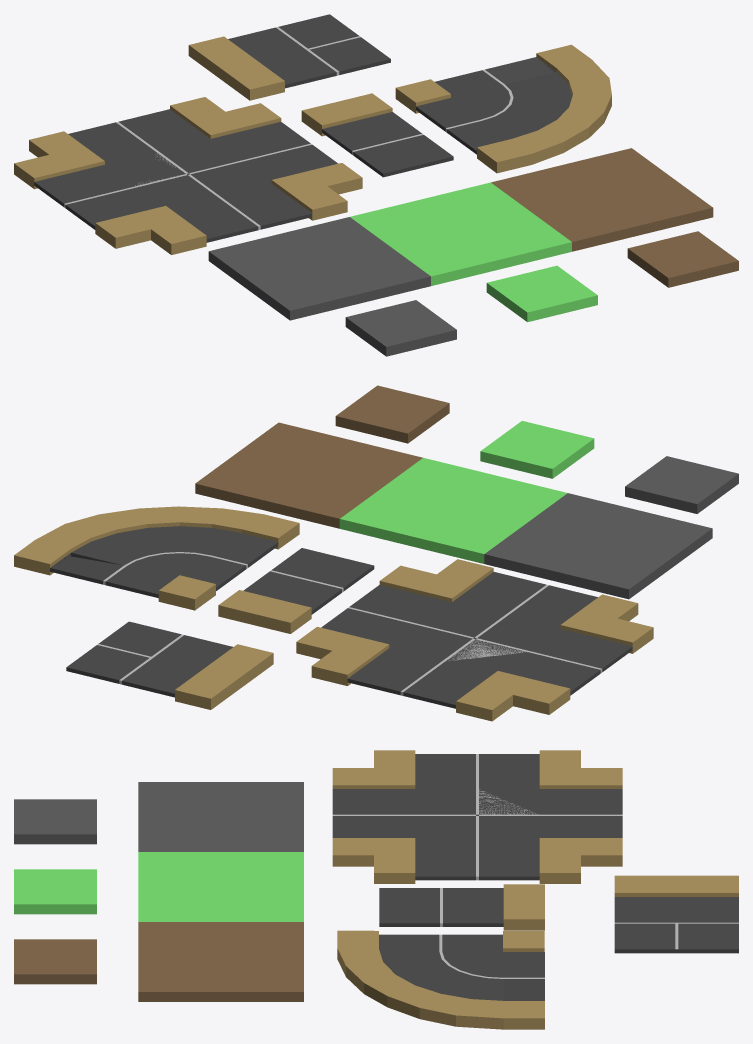
The model's file is Paths.fbx.
The picture shows the model from 3 angles, top to bottom: view 1: azimuth 30°, elevation 25°; view 2: azimuth 150°, elevation 25°; view 3: azimuth 270°, elevation 25°; orthographic projection. The views are drawn at different scales.
Visible parts, largest first — view 1: Cross Road, Stone 4x4, Dirt 4x4, Grass 4x4, Curved Road, Curved Sidewalk, T Road, Road, Dirt 2x2, Stone 2x2, Grass 2x2, T Sidewalk (+3 smaller); view 2: Cross Road, Stone 4x4, Grass 4x4, Dirt 4x4, Curved Road, Curved Sidewalk, T Road, Road, Grass 2x2, Dirt 2x2, Stone 2x2, T Sidewalk (+3 smaller); view 3: Cross Road, Dirt 4x4, Grass 4x4, Stone 4x4, Curved Road, Curved Sidewalk, T Road, Road, Dirt 2x2, Grass 2x2, Stone 2x2, Corner Sidewalk (+3 smaller).
Boxes of the visible parts, bbox=[...] form: Cross Road: bbox=[14, 109, 362, 254]; Stone 4x4: bbox=[208, 217, 430, 320]; Dirt 4x4: bbox=[491, 148, 713, 251]; Grass 4x4: bbox=[350, 182, 571, 285]; Curved Road: bbox=[416, 57, 572, 154]; Curved Sidewalk: bbox=[477, 44, 611, 173]; T Road: bbox=[228, 14, 390, 88]; Road: bbox=[322, 112, 453, 177]; Dirt 2x2: bbox=[627, 231, 738, 287]; Stone 2x2: bbox=[345, 300, 456, 356]; Grass 2x2: bbox=[486, 265, 597, 322]; T Sidewalk: bbox=[188, 36, 284, 100]; Cross Road: bbox=[321, 559, 653, 721]; Stone 4x4: bbox=[484, 493, 712, 599]; Grass 4x4: bbox=[339, 458, 567, 563]; Dirt 4x4: bbox=[195, 422, 422, 528]; Curved Road: bbox=[50, 526, 278, 597]; Curved Sidewalk: bbox=[14, 506, 299, 575]; T Road: bbox=[66, 621, 232, 697]; Road: bbox=[243, 548, 374, 614]; Grass 2x2: bbox=[480, 421, 594, 478]; Dirt 2x2: bbox=[335, 385, 449, 443]; Stone 2x2: bbox=[625, 456, 738, 513]; T Sidewalk: bbox=[175, 644, 273, 709]; Cross Road: bbox=[332, 750, 622, 883]; Dirt 4x4: bbox=[138, 922, 303, 1001]; Grass 4x4: bbox=[138, 852, 303, 921]; Stone 4x4: bbox=[138, 782, 303, 851]; Curved Road: bbox=[379, 934, 544, 1000]; Curved Sidewalk: bbox=[337, 930, 544, 1029]; T Road: bbox=[614, 897, 738, 953]; Road: bbox=[379, 888, 503, 926]; Dirt 2x2: bbox=[14, 939, 96, 984]; Grass 2x2: bbox=[14, 869, 96, 914]; Stone 2x2: bbox=[14, 799, 96, 844]; Corner Sidewalk: bbox=[539, 838, 622, 883].
Bounding box in the file's own units: 3062 × 66.27 × 3500.
